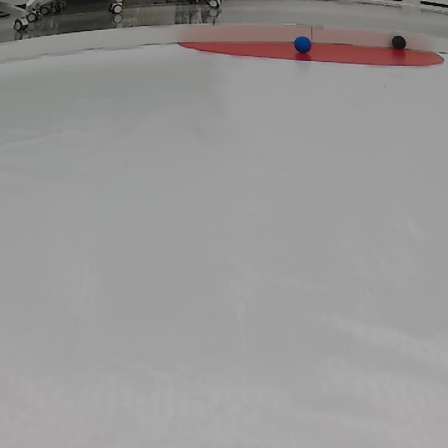black: (391, 33, 410, 51)
blue: (291, 34, 313, 53)
red_base: (175, 41, 445, 68)
